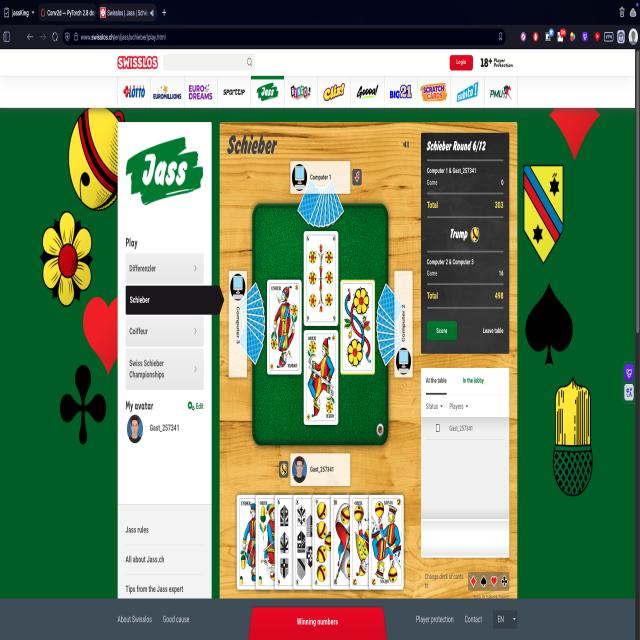eio: (258, 493, 289, 588)
eiu: (238, 494, 270, 588)
ro6: (304, 230, 336, 323)
roa: (341, 280, 374, 374)
roo: (305, 333, 338, 421)
rou: (269, 279, 301, 372)
se10: (331, 492, 369, 590)
se9: (313, 492, 351, 593)
sek: (370, 493, 404, 587)
seo: (352, 492, 388, 592)
si6: (276, 492, 314, 592)
si8: (293, 494, 326, 590)
